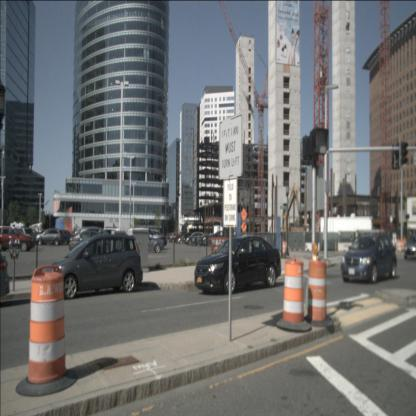movable_object-barrier: (337, 242, 353, 252), (305, 242, 320, 252)
movable_object-trafficcone: (16, 266, 78, 396), (275, 255, 312, 332), (304, 242, 334, 328), (400, 238, 405, 251), (282, 241, 286, 255), (397, 239, 401, 252), (334, 240, 337, 252)
vehicle-car: (47, 234, 143, 299), (194, 236, 282, 295), (340, 235, 396, 283), (69, 226, 110, 251), (0, 227, 34, 251), (132, 229, 164, 254), (136, 228, 167, 249), (36, 228, 64, 245), (10, 228, 35, 246), (404, 236, 416, 260), (52, 230, 70, 245), (178, 233, 196, 244), (169, 233, 181, 243), (165, 233, 174, 242)
vehicle-motorcycle: (198, 234, 212, 247)
vehicle-truck: (184, 232, 204, 244)
